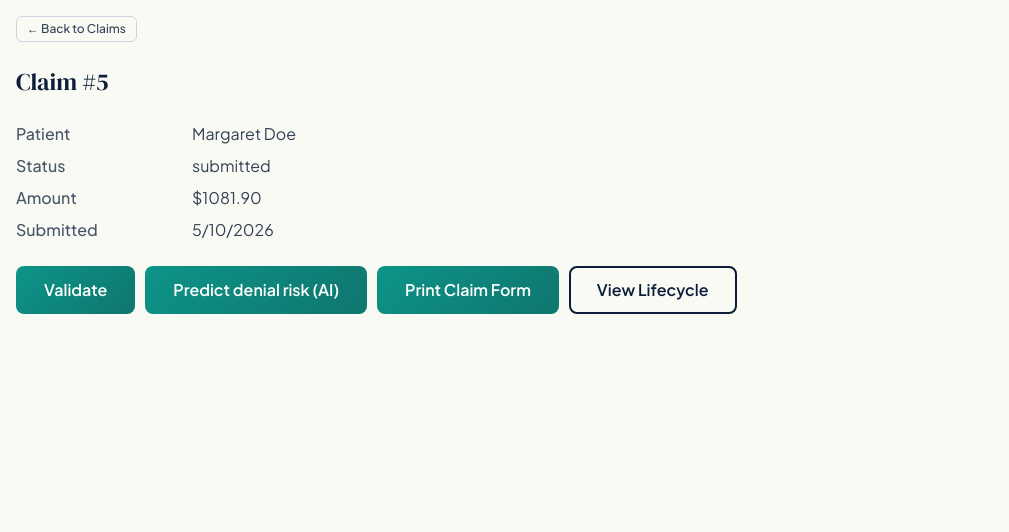
Scenario: ClaimDetail — AI denial prediction › runs prediction and displays risk panel with rationale + fixes
Expected: the heading "Claim #5" is shown, [16,65,108,98]
Click the button "Predict denial risk (AI)".
click(256, 290)  # box [145,266,367,314]
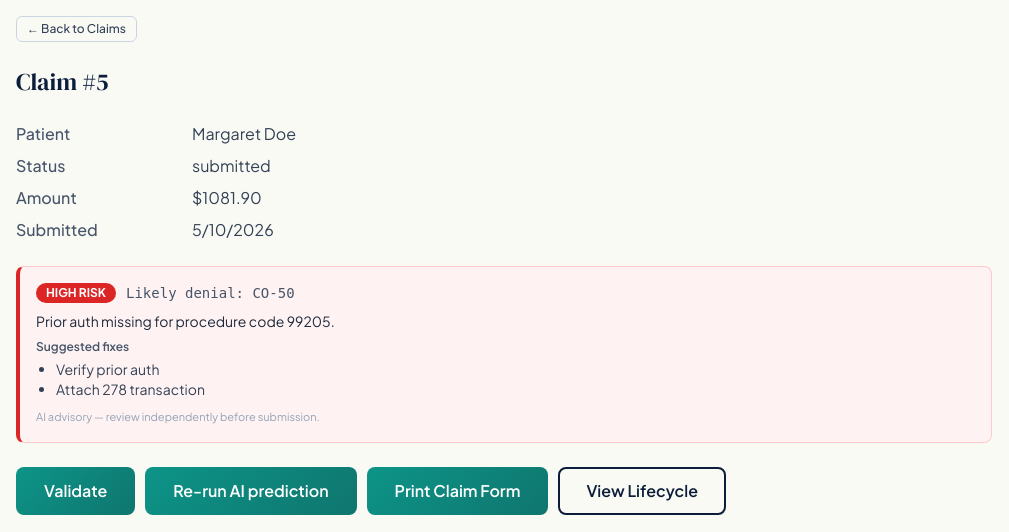
Now the text "Prior auth missing for procedure code 99205." is shown, box [36,312,335,330]
Now the text "Likely denial: CO-50" is shown, box [126,283,295,303]
Now the list item "Verify prior auth" is shown, box [56,360,159,378]
